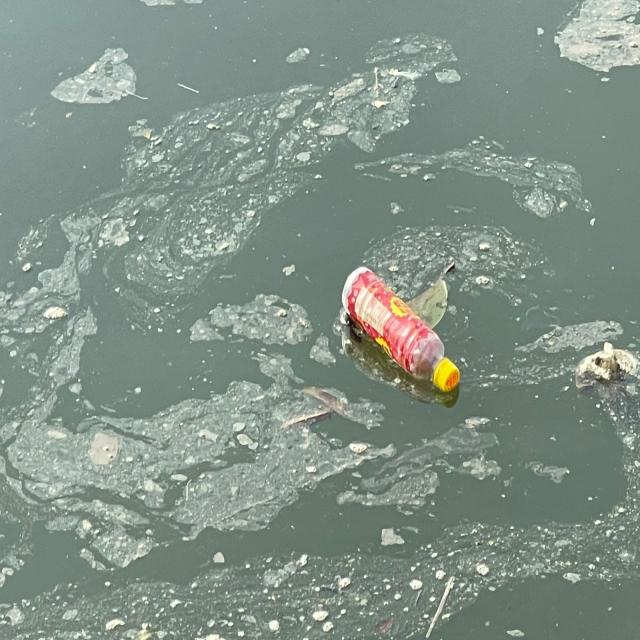Botol Plastik: (339, 265, 464, 406)
